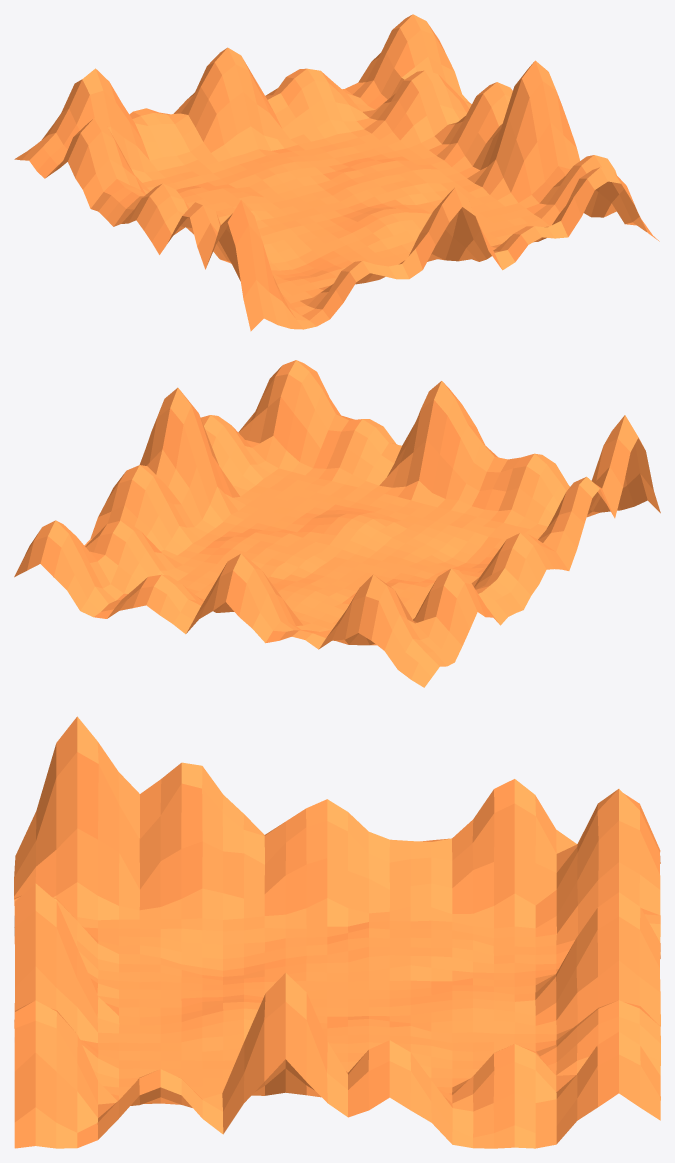
File: MarsTerrain1.fbx
3 renders of one model, top to bottom at view 1: azimuth 30°, elevation 25°; view 2: azimuth 150°, elevation 25°; view 3: azimuth 270°, elevation 25°, orthographic. The views are drawn at different scales.
Visible parts, largest first — view 1: Plane; view 2: Plane; view 3: Plane.
Part boxes in pixels (<box>): Plane: <box>14,14,659,331</box>; Plane: <box>14,360,660,687</box>; Plane: <box>14,716,660,1148</box>.
Bounding box in the file's own units: 20031 × 6287 × 20038.
